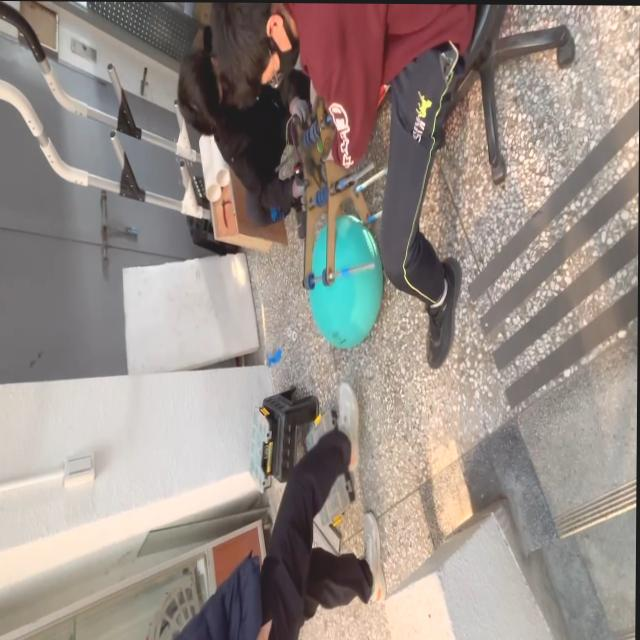ALGAE: (307, 212, 384, 351)
